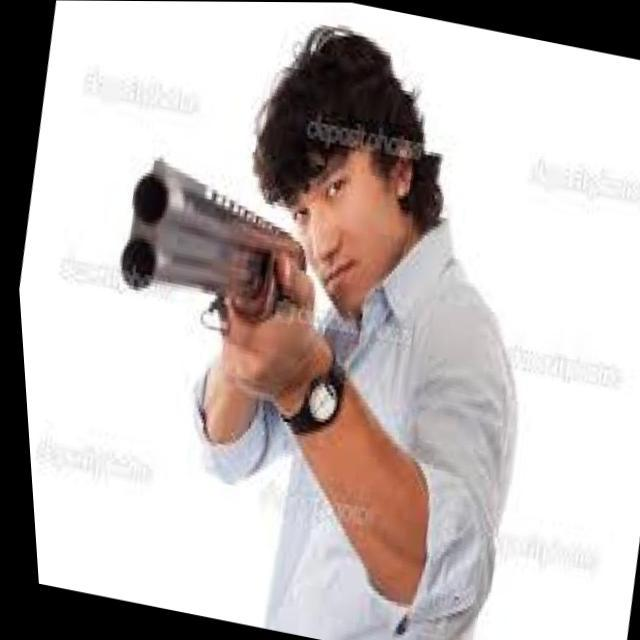weapon: (54, 149, 488, 610)
